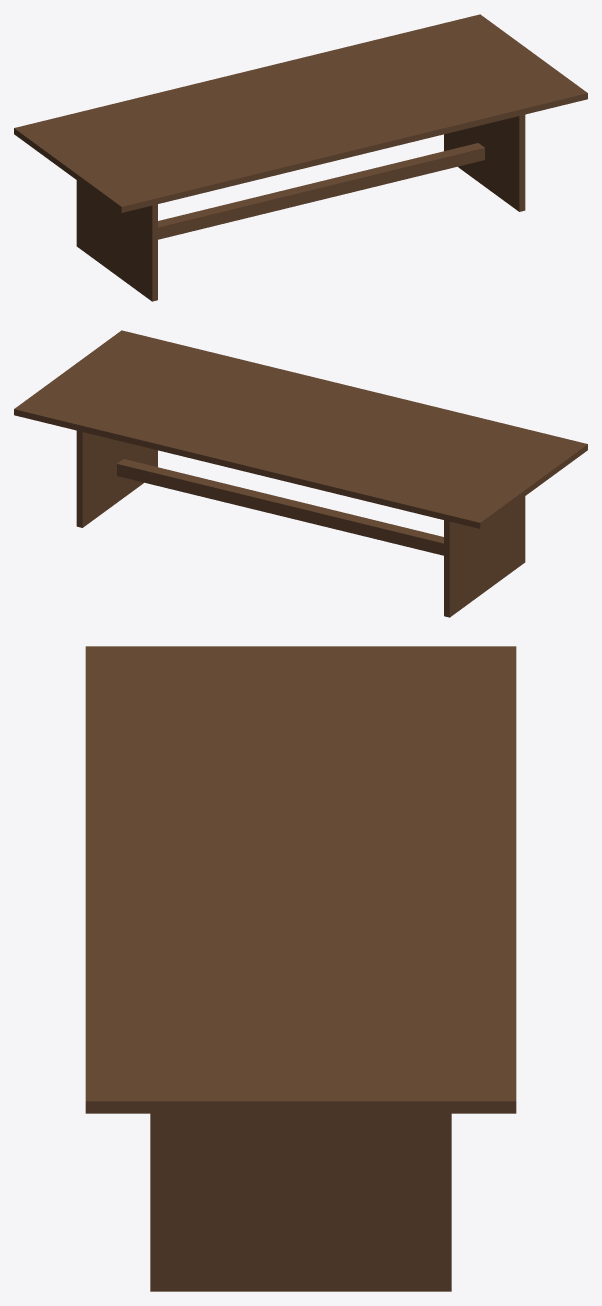
File: min-001-conference-table.glb
The picture shows the model from 3 angles, top to bottom: view 1: azimuth 30°, elevation 25°; view 2: azimuth 150°, elevation 25°; view 3: azimuth 270°, elevation 25°; orthographic projection. The views are drawn at different scales.
Parts seen in each view (by area): view 1: Conference table; view 2: Conference table; view 3: Conference table.
Part boxes in pixels (box(x1,y1,x2,y2)): Conference table: box(14, 14, 587, 301); Conference table: box(14, 330, 587, 617); Conference table: box(85, 646, 516, 1291).
Bounding box in the file's own units: 3.05 × 0.7366 × 1.22.
